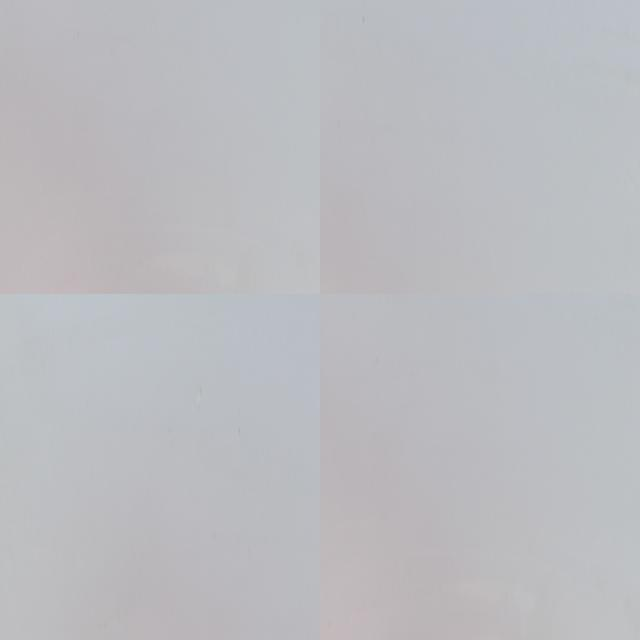fish: (320, 495, 640, 640), (0, 389, 40, 640)
